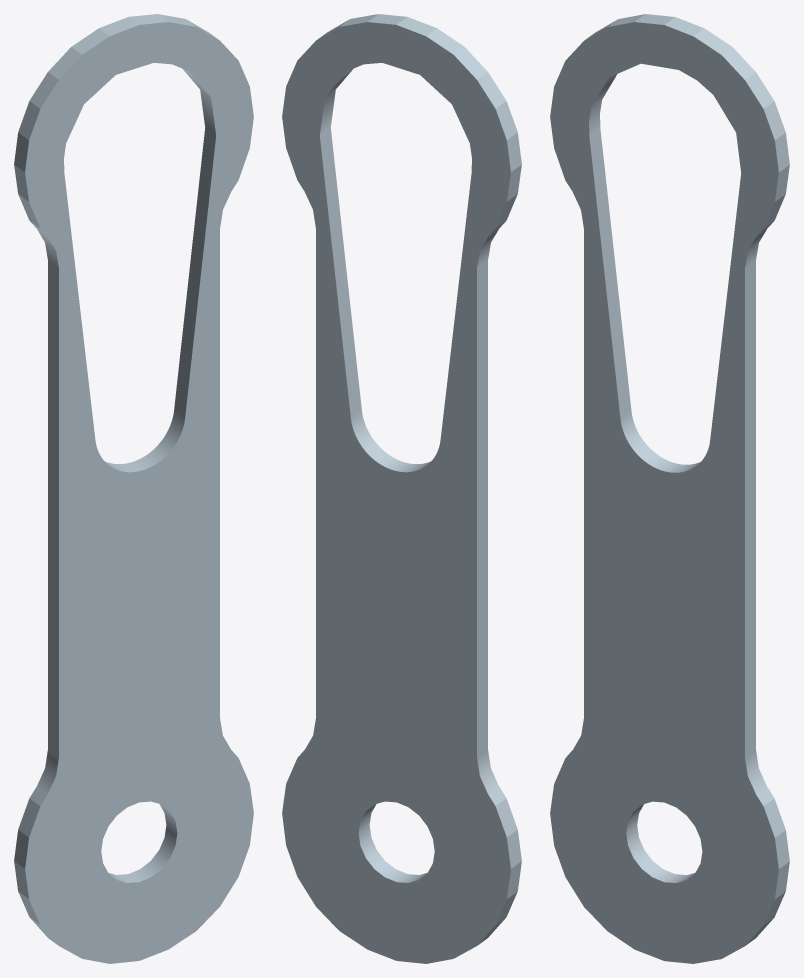
Rendered from prt0002.obj.
3 renders of one model, left to right at view 1: azimuth 30°, elevation 25°; view 2: azimuth 150°, elevation 25°; view 3: azimuth 330°, elevation 25°, orthographic.
Parts seen in each view (by area): view 1: 1; view 2: 1; view 3: 1.
Boxes of the visible parts, x1,y1,x2,y2 form: 1: [14, 14, 253, 963]; 1: [282, 14, 521, 963]; 1: [550, 14, 789, 963].
Bounding box in the file's own units: 12.02 × 46.99 × 1.
